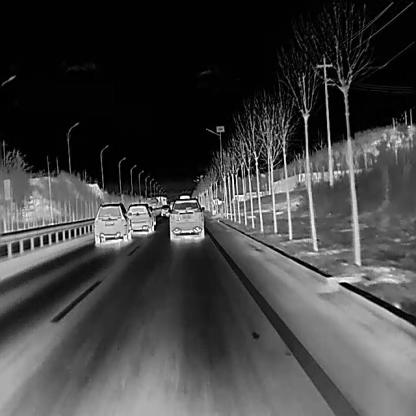car: (167, 195, 204, 242), (92, 202, 132, 244), (124, 202, 154, 234), (160, 203, 170, 216)
